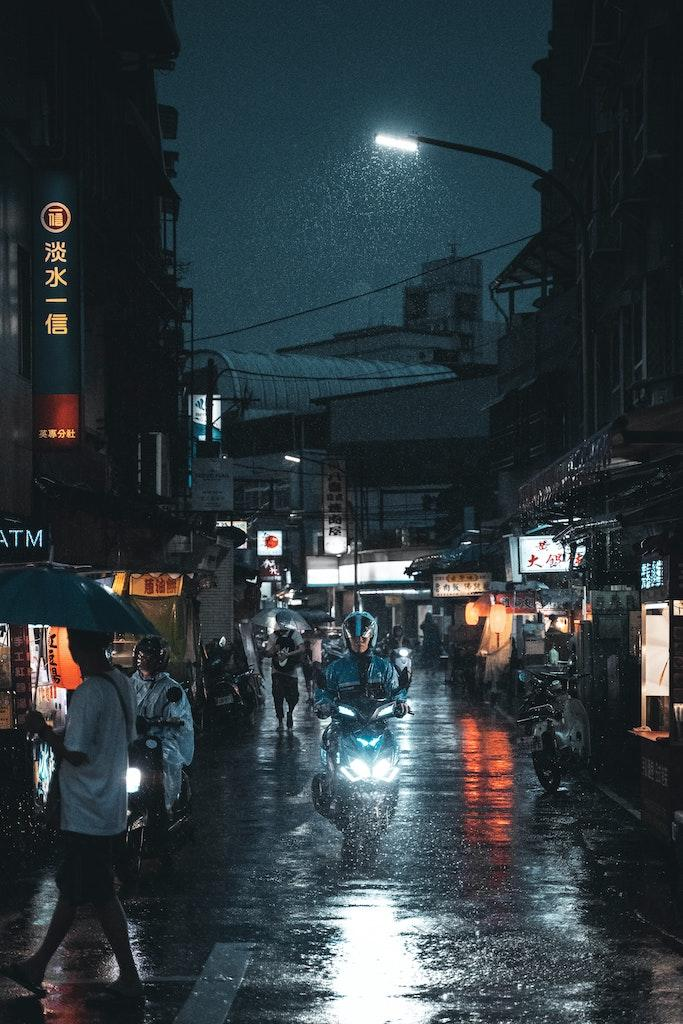helmet: (341, 611, 379, 657)
